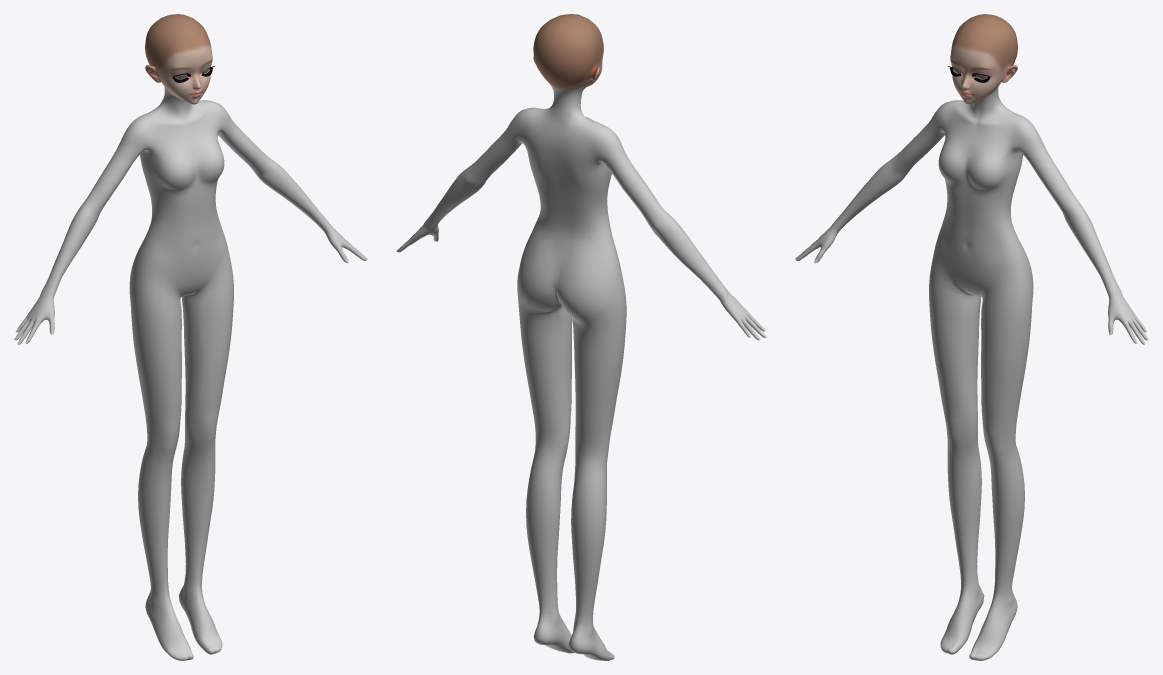
Rendered from newface&body-辉哥脸.FBX.
3 renders of one model, left to right at view 1: azimuth 30°, elevation 25°; view 2: azimuth 150°, elevation 25°; view 3: azimuth 330°, elevation 25°, orthographic. The views are drawn at different scales.
Visible parts, largest first — view 1: shenti0903, lian0902; view 2: shenti0903, lian0902; view 3: shenti0903, lian0902.
Boxes of the visible parts, left/top/right/bottom form: shenti0903: left=14, top=86, right=367, bottom=660; lian0902: left=145, top=14, right=212, bottom=104; shenti0903: left=396, top=85, right=766, bottom=660; lian0902: left=533, top=14, right=603, bottom=90; shenti0903: left=795, top=86, right=1148, bottom=660; lian0902: left=950, top=14, right=1017, bottom=104.
Size of the model in its own units: 99.41 by 20.42 by 169.
